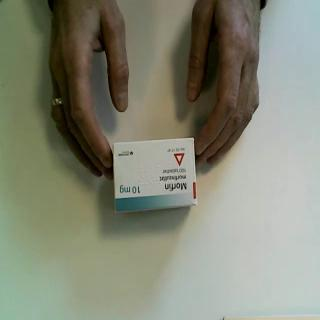morfin10mg: (113, 136, 199, 216)
